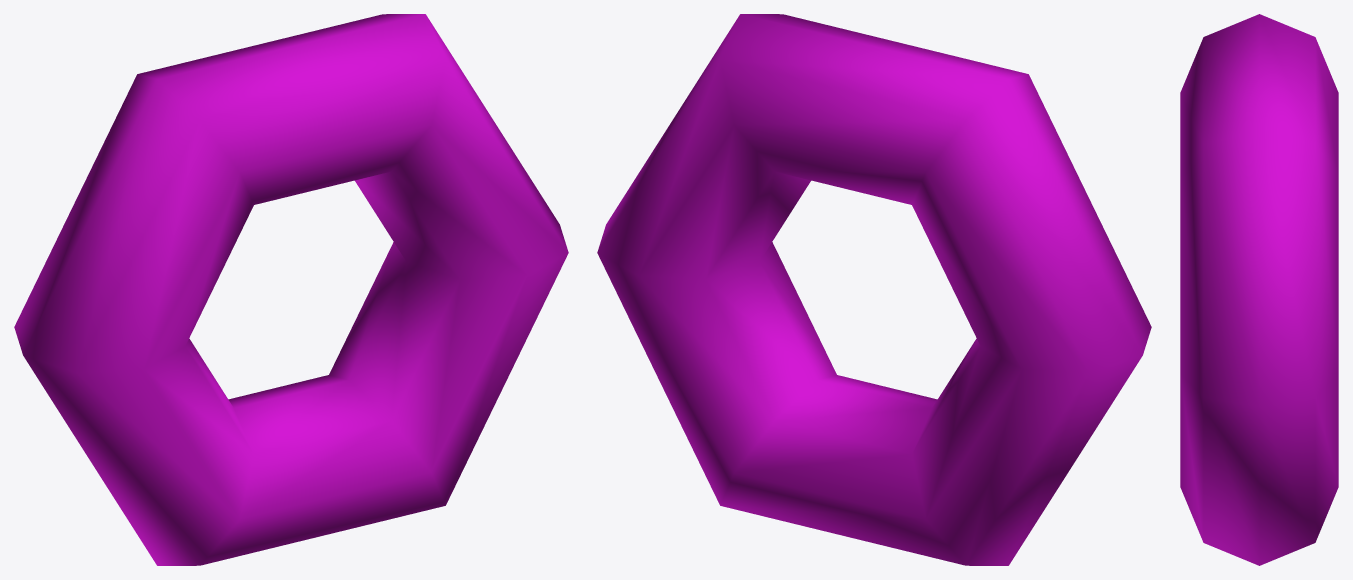
The picture shows the model from 3 angles, left to right: view 1: azimuth 30°, elevation 25°; view 2: azimuth 150°, elevation 25°; view 3: azimuth 270°, elevation 25°; orthographic projection. The views are drawn at different scales.
Visible parts, largest first — view 1: Torus; view 2: Torus; view 3: Torus.
Part boxes in pixels (<box>): Torus: <box>14,14,568,565</box>; Torus: <box>597,14,1151,565</box>; Torus: <box>1180,14,1338,565</box>.
Bounding box in the file's own units: 2.8 × 2.42 × 0.8.
